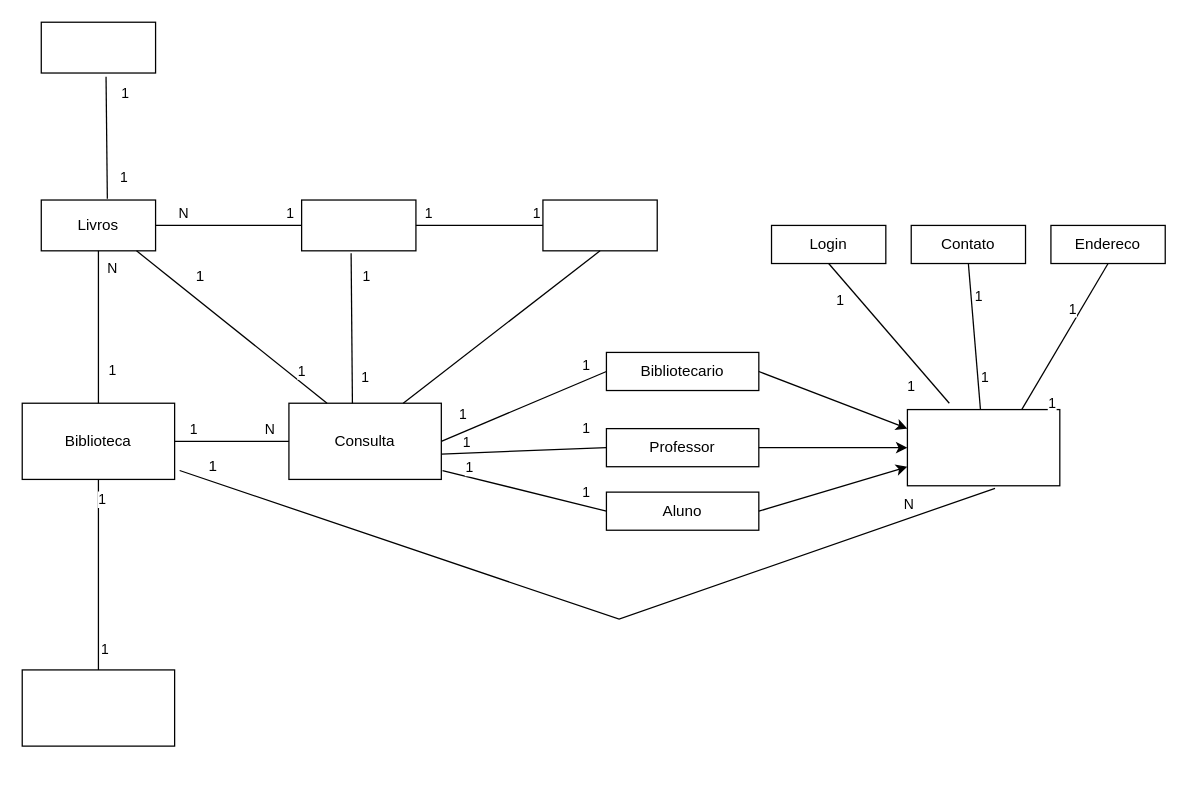
This 1187x791 diagram has some shape labels left out. Here are the shapes that lost their labels. From the top down, the centre of each, then its label:
pixel 98 47: Area
pixel 358 225: Emprestimos
pixel 599 225: Devolução
pixel 983 447: Usuario
pixel 98 707: BibliotecaService
